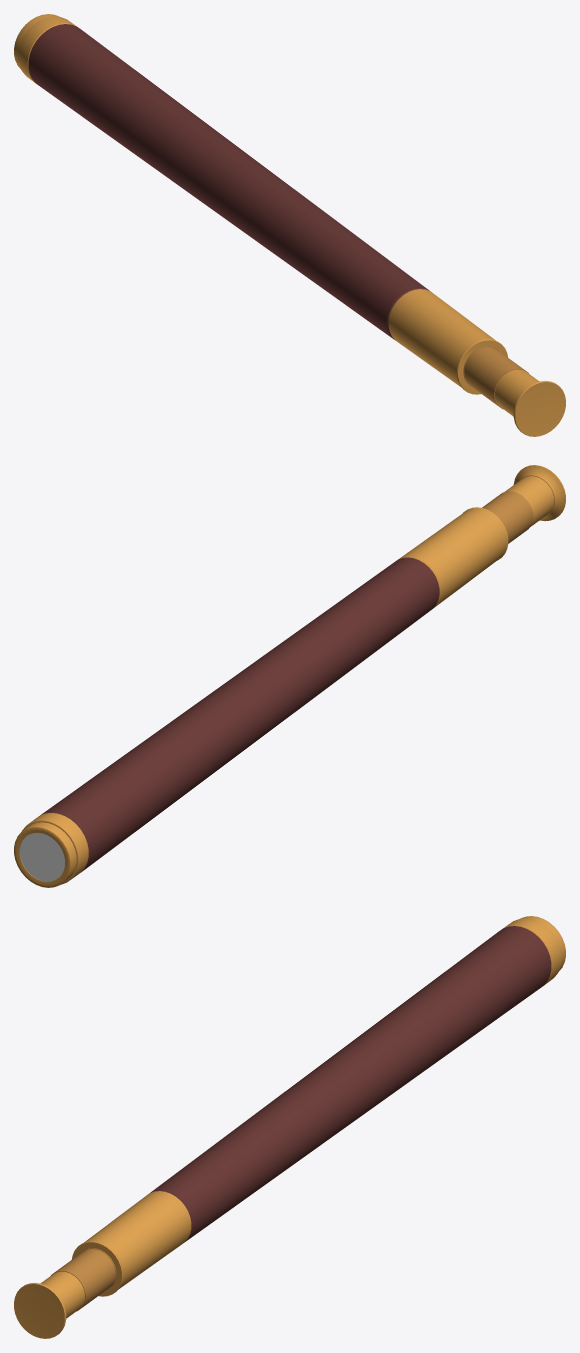
Rendered from telescope(1).fbx.
The picture shows the model from 3 angles, top to bottom: view 1: azimuth 30°, elevation 25°; view 2: azimuth 150°, elevation 25°; view 3: azimuth 330°, elevation 25°; orthographic projection.
Parts seen in each view (by area): view 1: Cylinder, Cylinder.002; view 2: Cylinder, Cylinder.002; view 3: Cylinder, Cylinder.002.
Part boxes in pixels (box(x1,y1,x2,y2)): Cylinder: box(14, 14, 507, 394); Cylinder.002: box(463, 346, 565, 436); Cylinder: box(14, 507, 508, 887); Cylinder.002: box(482, 465, 565, 543); Cylinder: box(72, 916, 565, 1296); Cylinder.002: box(14, 1248, 116, 1338).
Size of the model in its own units: 2.11 by 2.12 by 29.95.
